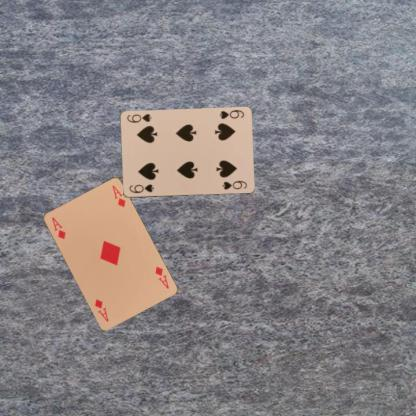6s: (126, 182, 155, 194), (217, 108, 245, 120)
Ad: (49, 214, 67, 240), (152, 264, 170, 290)
